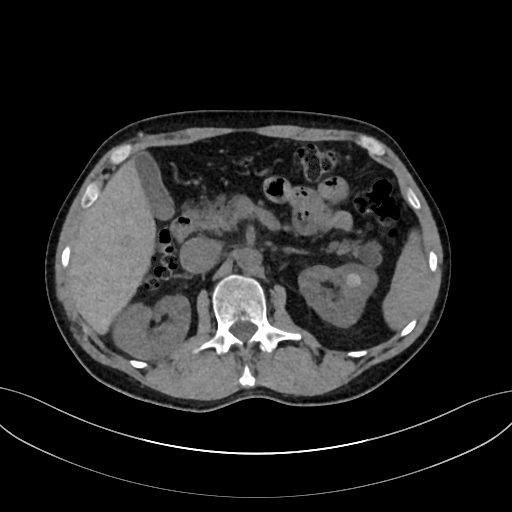Lesion: (342, 270, 367, 290)
